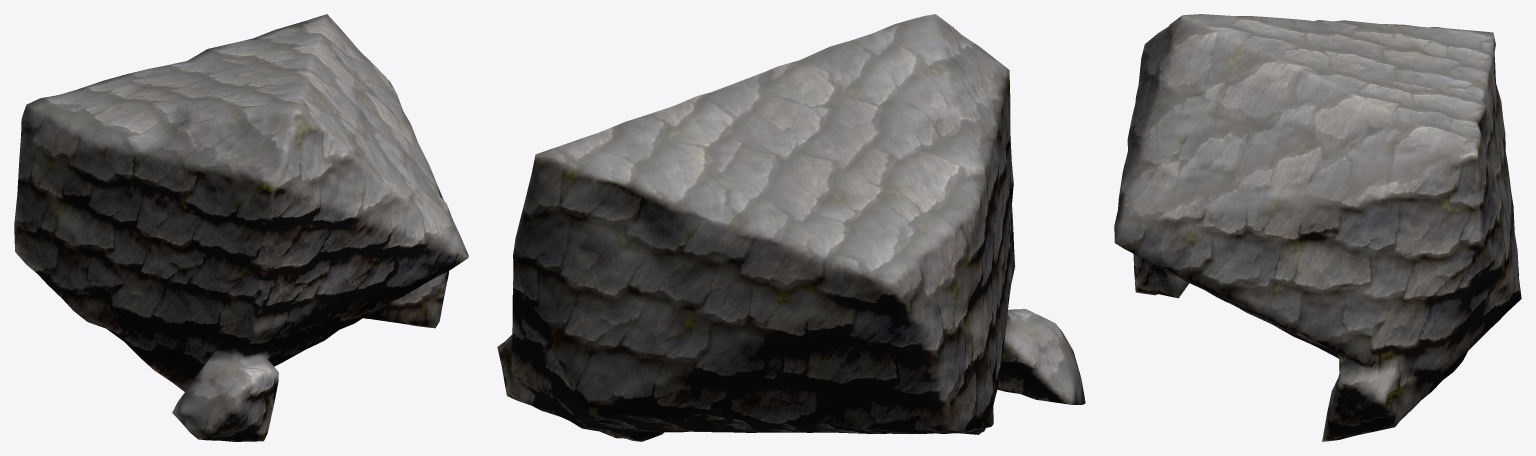
Rendered from boulder_round_b.glb.
3 renders of one model, left to right at view 1: azimuth 30°, elevation 25°; view 2: azimuth 150°, elevation 25°; view 3: azimuth 270°, elevation 25°, orthographic. The views are drawn at different scales.
Visible parts, largest first — view 1: rock; view 2: rock; view 3: rock.
Boxes of the visible parts, x1,y1,x2,y2 form: rock: (14, 14, 468, 441); rock: (497, 14, 1085, 441); rock: (1114, 14, 1521, 441).
Bounding box in the file's own units: 1.31 × 0.9848 × 1.12.
Materials: 1 (1 with a texture image).
